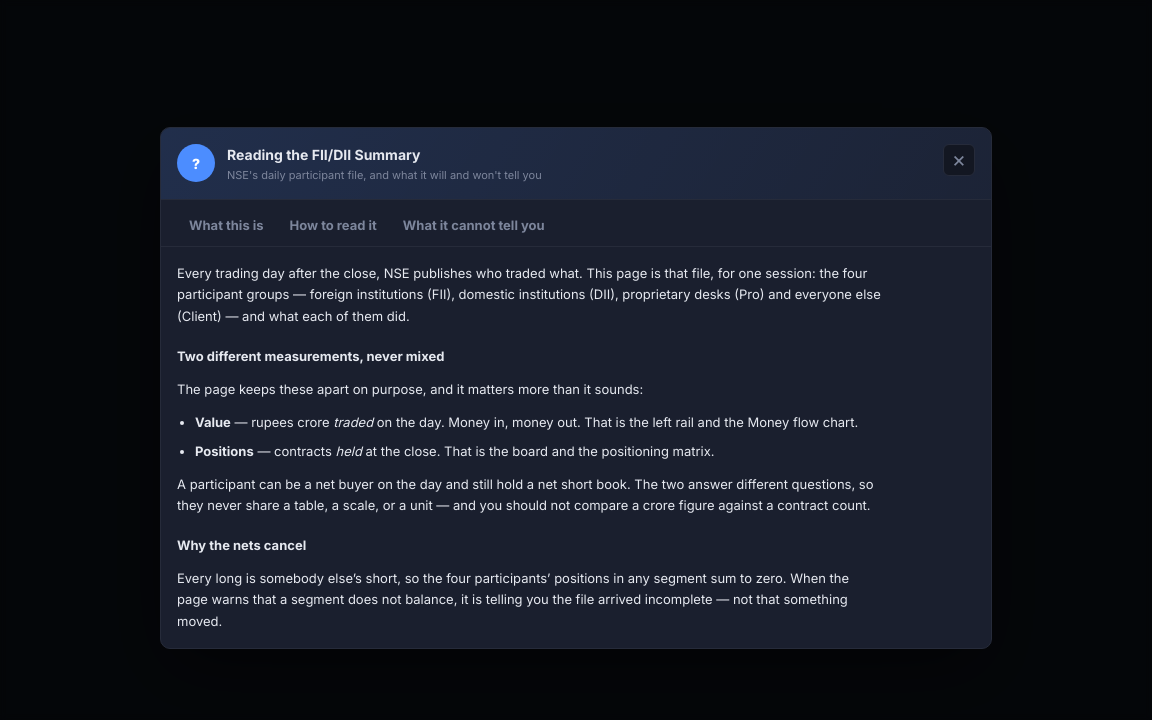
Test: FiiDiiGuide › opens on the procedure it exists to teach
Expected: the dialog is shown, [160, 127, 992, 649]
Click the tab "How to read it".
click(333, 227)  # box [278, 208, 389, 246]
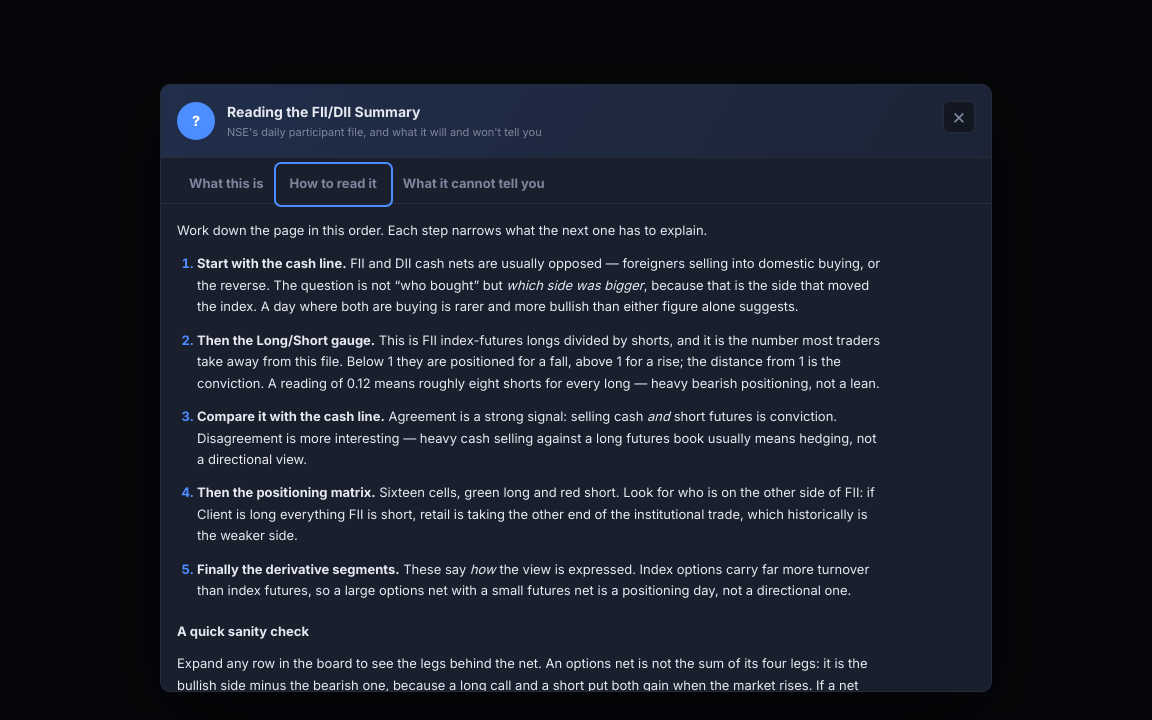
Now the text "Start with the cash line." is shown, box [197, 255, 346, 271]
